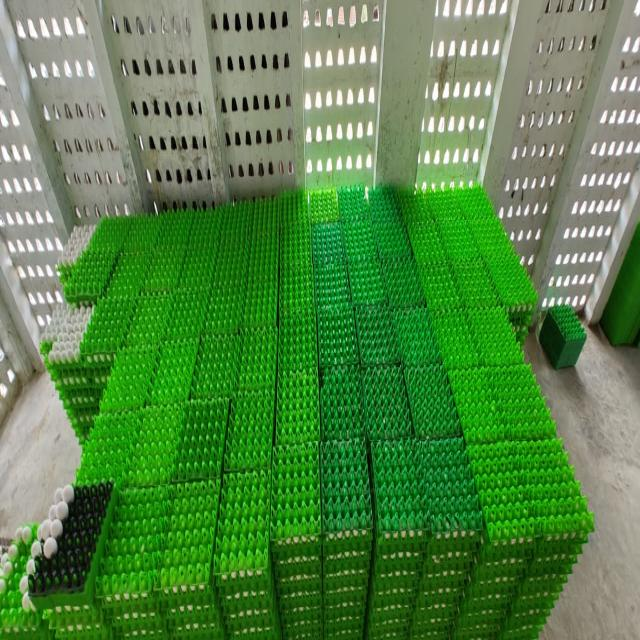egg_tray: (456, 438, 593, 635), (367, 438, 482, 637), (400, 188, 536, 343), (96, 478, 220, 631), (0, 485, 112, 638), (468, 438, 593, 573), (412, 439, 482, 635), (77, 400, 228, 487), (368, 439, 428, 637), (213, 471, 280, 636), (28, 482, 114, 608), (457, 188, 536, 319), (320, 439, 372, 636), (270, 443, 321, 636), (41, 305, 110, 440), (77, 404, 188, 487), (448, 365, 556, 445), (96, 487, 166, 606), (412, 531, 480, 636), (158, 478, 220, 592), (371, 438, 428, 555), (320, 439, 372, 561), (214, 471, 271, 576), (422, 439, 482, 538), (270, 443, 320, 554), (76, 411, 141, 486), (127, 405, 184, 486), (0, 526, 41, 636), (174, 399, 228, 481), (218, 572, 281, 637), (224, 390, 274, 471), (204, 242, 248, 333), (80, 299, 138, 367), (404, 367, 460, 437), (100, 344, 157, 412), (362, 365, 414, 439), (320, 366, 366, 441), (275, 369, 320, 443), (486, 251, 537, 316), (148, 338, 198, 404), (41, 306, 94, 368), (49, 358, 108, 413), (214, 202, 254, 282), (466, 308, 523, 364), (191, 333, 240, 398), (32, 485, 75, 559), (162, 588, 225, 637), (64, 247, 116, 304), (178, 238, 218, 312), (539, 305, 586, 367), (213, 219, 250, 294), (431, 309, 478, 368), (278, 302, 317, 372), (38, 598, 108, 637), (394, 308, 441, 365), (356, 306, 400, 366), (236, 328, 278, 390), (340, 200, 379, 265), (318, 305, 358, 365), (450, 257, 498, 307), (248, 203, 279, 280), (125, 293, 170, 346), (340, 200, 378, 262), (278, 253, 314, 318), (218, 200, 263, 252), (418, 258, 462, 311), (56, 225, 96, 283), (435, 211, 480, 262), (168, 282, 208, 339), (340, 206, 378, 264), (252, 192, 294, 244), (187, 207, 226, 262), (106, 251, 152, 297), (280, 214, 312, 279), (218, 201, 254, 258), (348, 254, 387, 306), (383, 257, 424, 306), (241, 275, 278, 328), (143, 245, 186, 289), (374, 211, 411, 261), (408, 217, 445, 264), (397, 187, 432, 236), (279, 191, 310, 244), (314, 263, 350, 307), (280, 190, 310, 242), (158, 208, 196, 249), (88, 218, 130, 253), (337, 187, 371, 230), (122, 216, 160, 253), (312, 223, 344, 263), (279, 190, 310, 231), (369, 186, 401, 224), (337, 185, 370, 221), (308, 189, 339, 225), (308, 189, 339, 224), (281, 290, 294, 300), (108, 498, 114, 510), (412, 559, 418, 571), (488, 232, 498, 239), (292, 558, 304, 562), (300, 282, 308, 288), (374, 558, 378, 569), (49, 350, 53, 356), (280, 567, 286, 571), (281, 233, 284, 240), (289, 566, 294, 570), (547, 576, 555, 578), (229, 213, 234, 216), (72, 420, 74, 426), (53, 351, 56, 355), (37, 542, 39, 548), (466, 558, 470, 561), (192, 269, 196, 272), (228, 249, 231, 252), (285, 306, 288, 309), (224, 219, 226, 223), (366, 560, 368, 563), (176, 322, 178, 325), (463, 203, 464, 207), (223, 229, 224, 232), (42, 590, 44, 590), (309, 245, 309, 248), (416, 630, 416, 631), (130, 334, 130, 338), (336, 568, 338, 568), (263, 229, 263, 230), (418, 557, 418, 561), (305, 243, 305, 245)
